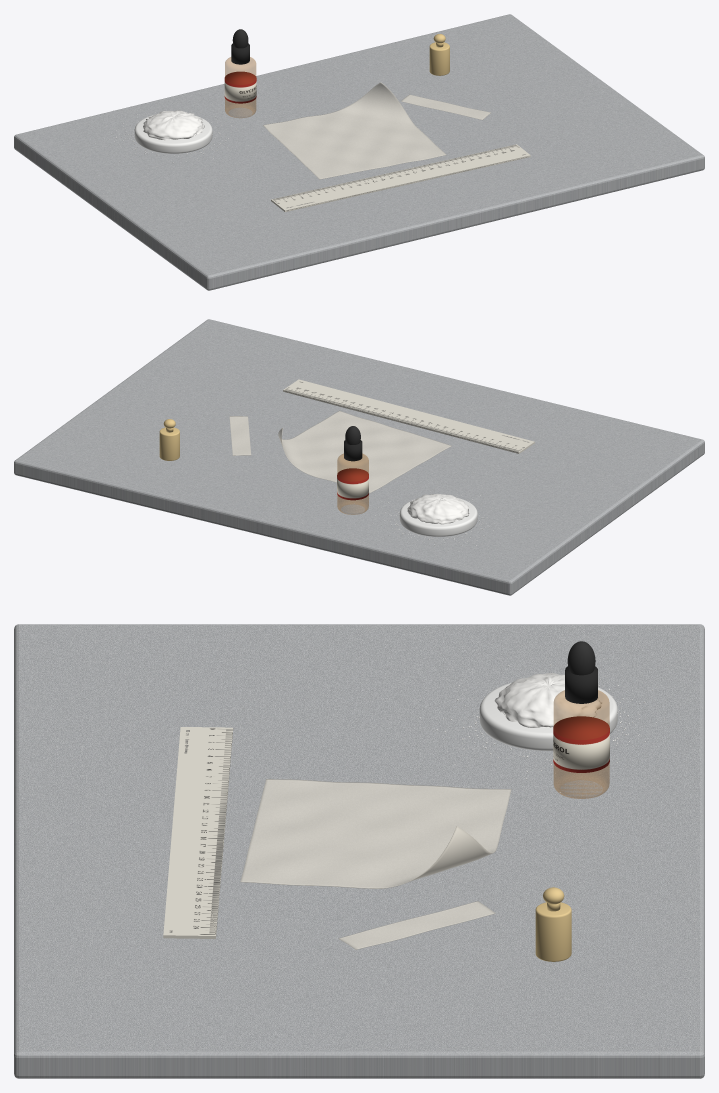
The model's file is prototype.glb.
3 views of the same model, one above another, from view 1: azimuth 30°, elevation 25°; view 2: azimuth 150°, elevation 25°; view 3: azimuth 270°, elevation 25° (orthographic). The views are drawn at different scales.
Parts seen in each view (by area): view 1: Plane, Grid, Plane.001, Sphere, Cylinder, Cylinder.001, Cylinder.002, Grid.001, Cylinder.004; view 2: Plane, Grid, Plane.001, Sphere, Cylinder, Cylinder.001, Cylinder.002, Grid.001, Cylinder.004; view 3: Plane, Grid, Plane.001, Sphere, Cylinder.001, Cylinder.002, Cylinder, Grid.001, Cylinder.004, Cylinder.003, Sphere.001.
Part boxes in pixels (x1=…): Plane: x1=14, y1=14, x2=704, y2=290; Grid: x1=263, y1=82, x2=446, y2=179; Plane.001: x1=271, y1=144, x2=530, y2=211; Sphere: x1=143, y1=110, x2=204, y2=140; Cylinder: x1=134, y1=114, x2=212, y2=153; Cylinder.001: x1=225, y1=57, x2=255, y2=117; Cylinder.002: x1=224, y1=71, x2=256, y2=103; Grid.001: x1=401, y1=94, x2=490, y2=120; Cylinder.004: x1=429, y1=42, x2=449, y2=75; Plane: x1=14, y1=319, x2=704, y2=595; Grid: x1=278, y1=411, x2=451, y2=492; Plane.001: x1=283, y1=379, x2=534, y2=453; Sphere: x1=407, y1=494, x2=469, y2=524; Cylinder: x1=399, y1=498, x2=477, y2=536; Cylinder.001: x1=337, y1=453, x2=368, y2=514; Cylinder.002: x1=337, y1=468, x2=368, y2=500; Grid.001: x1=229, y1=416, x2=251, y2=455; Cylinder.004: x1=159, y1=427, x2=179, y2=460; Plane: x1=14, y1=624, x2=704, y2=1078; Grid: x1=240, y1=779, x2=511, y2=888; Plane.001: x1=163, y1=727, x2=233, y2=938; Sphere: x1=494, y1=673, x2=601, y2=727; Cylinder.001: x1=554, y1=690, x2=609, y2=798; Cylinder.002: x1=553, y1=716, x2=609, y2=772; Cylinder: x1=479, y1=682, x2=617, y2=750; Grid.001: x1=338, y1=901, x2=495, y2=949; Cylinder.004: x1=535, y1=902, x2=571, y2=961; Cylinder.003: x1=565, y1=666, x2=597, y2=703; Sphere.001: x1=567, y1=641, x2=595, y2=675.
Size of the model in its own units: 0.62 by 0.1168 by 0.42.
10 materials, 3 textured.
